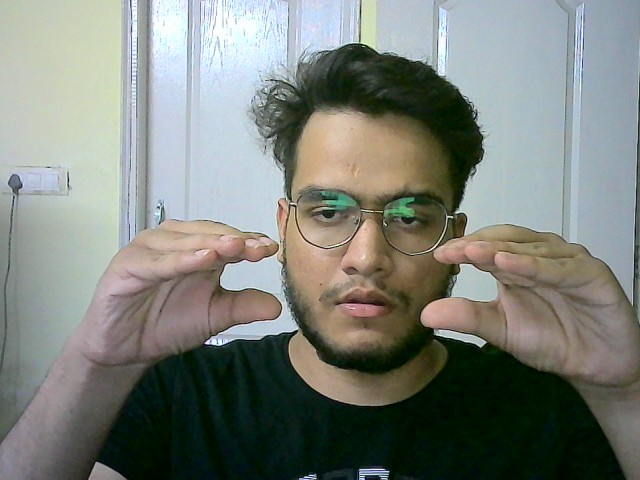No: (425, 221, 640, 396), (71, 209, 284, 370)
